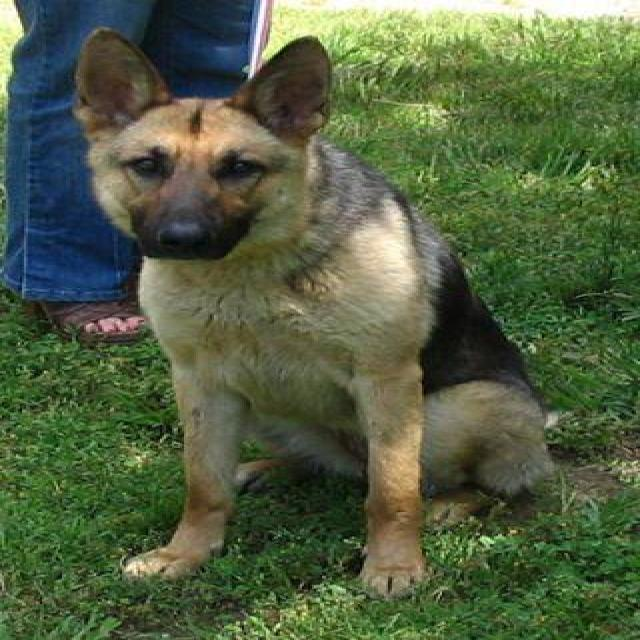Dog: (65, 24, 348, 269)
